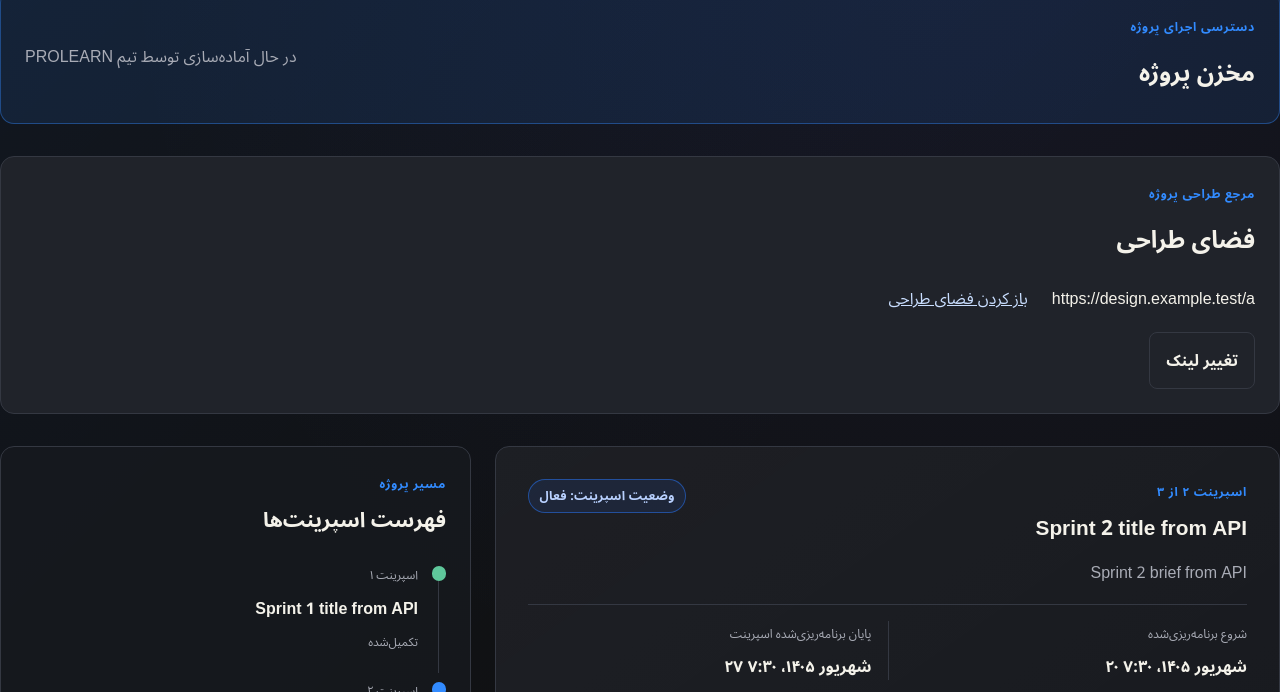
Test: WorkspacePage › changes the current URL but displays only the authoritative refetched value
(page scrolled)
Click the button "تغییر لینک" at (1202, 360), box [1149,332,1255,389]
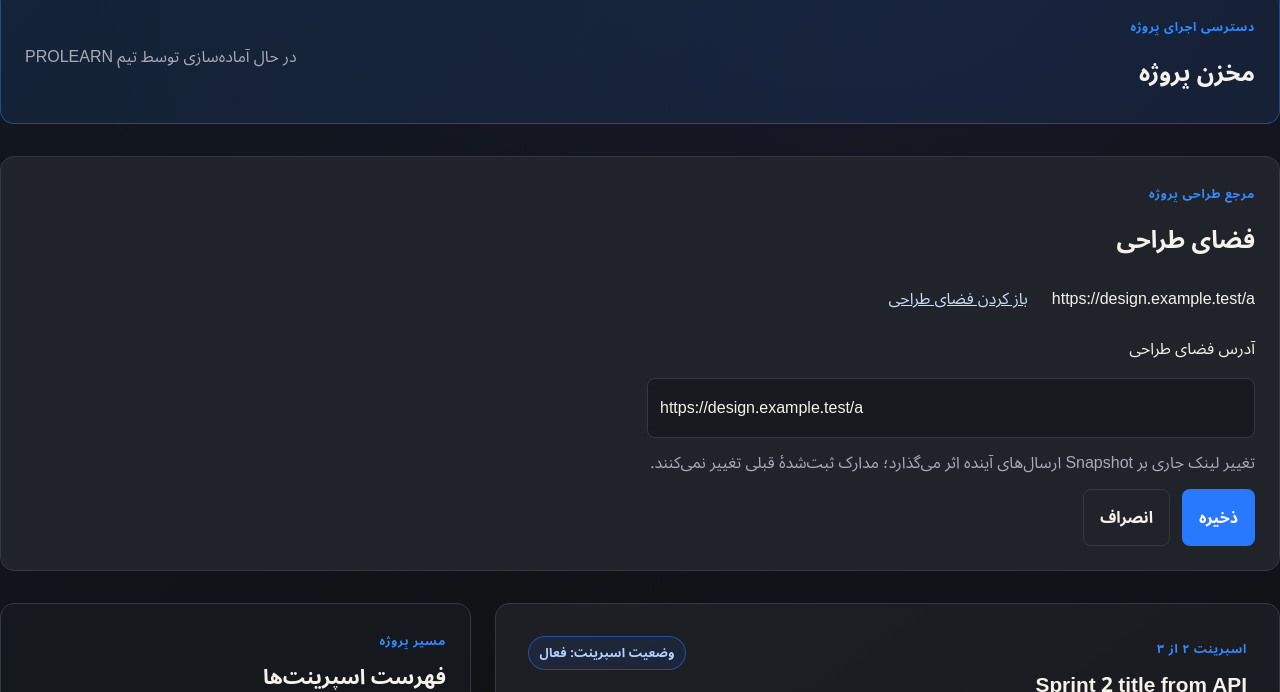
Check: the text "مدارک ثبت‌شدهٔ قبلی تغییر نمی‌کنند" is shown, box [650,446,1255,480]
Replace the text in the field labelled "آدرس فضای طراحی" with "https://design.example.test/b" at (951, 408), box [647,378,1255,438]
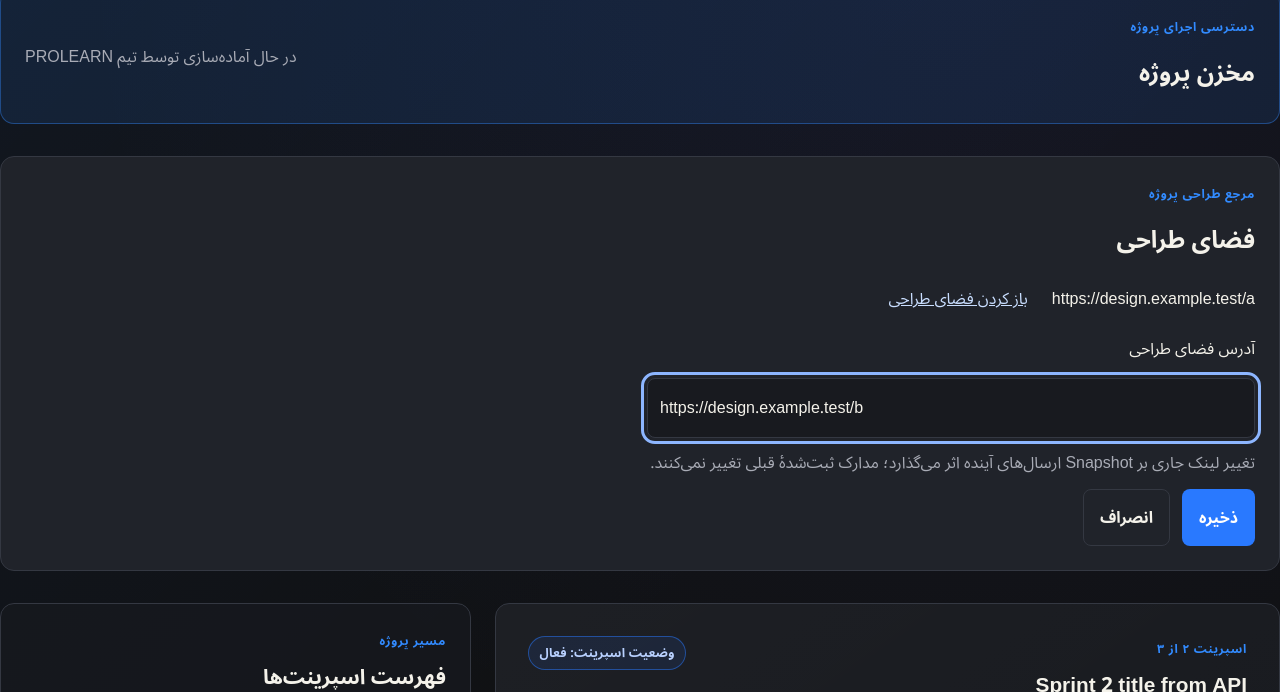
Click the button "ذخیره" at (1218, 518), box [1182,489,1255,546]
(page scrolled)
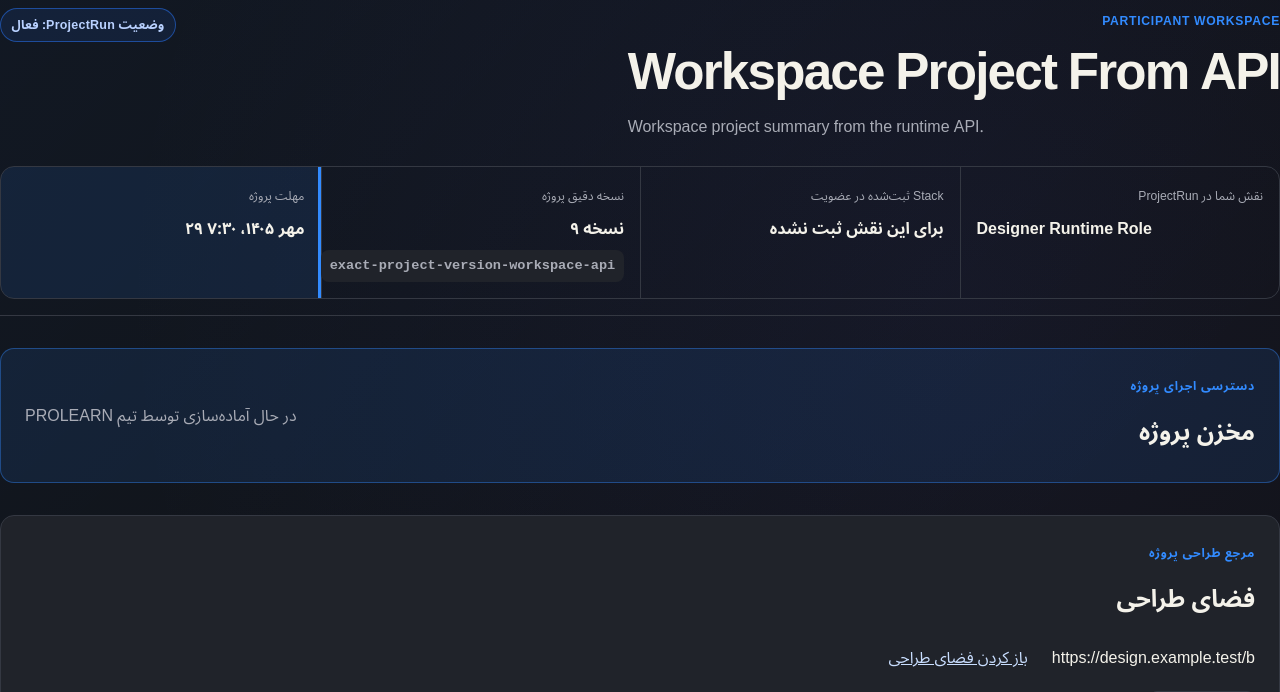
Check: the text "https://design.example.test/b" is shown, box [1052,641,1255,675]
